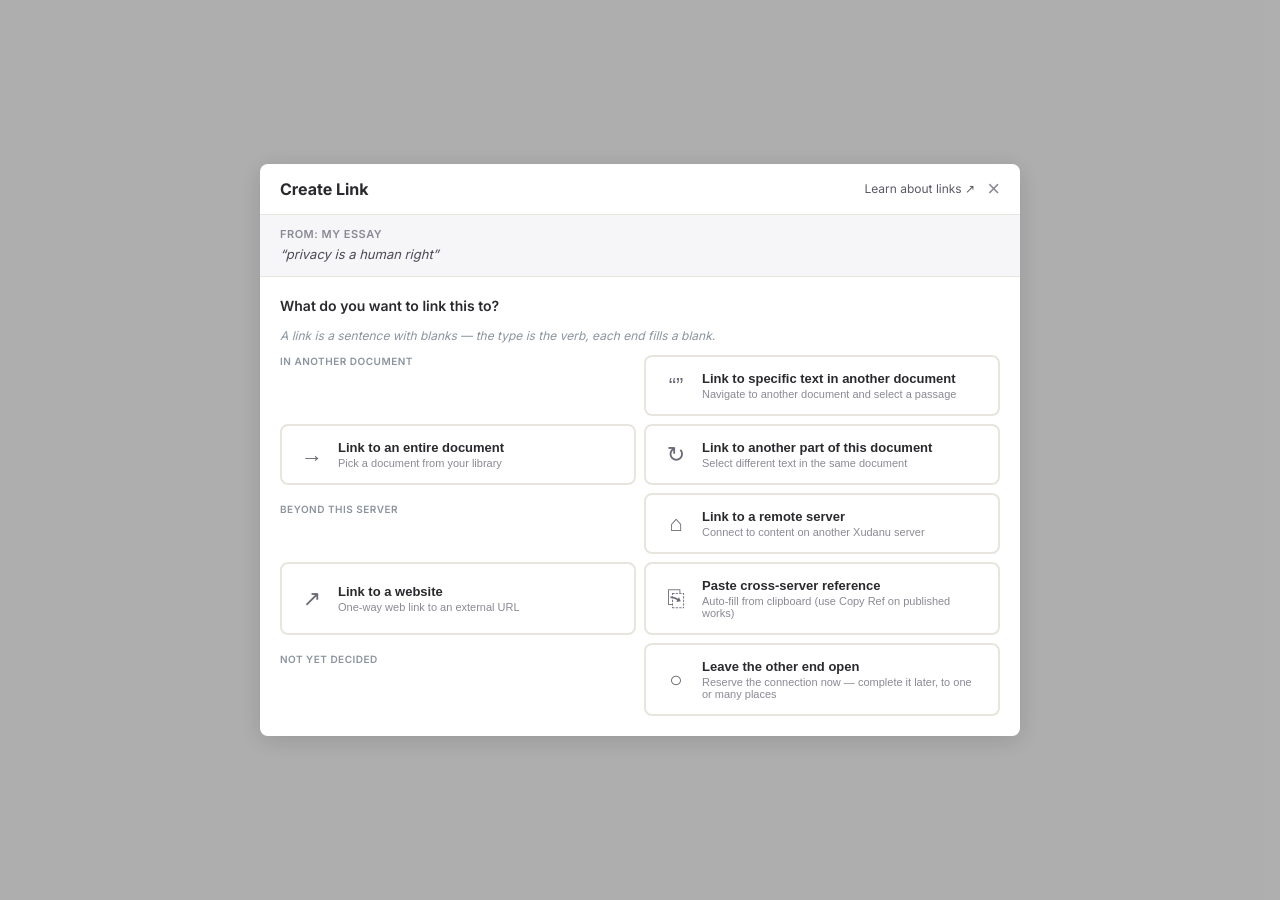
Test: LinkCreator › shows empty state when no other works exist
The image size is (1280, 900).
What coordinates should you click on to do the following:
click the text "Link to an entire document"
I would click on:
 (421, 448)
Its box is [338,440,504,455].
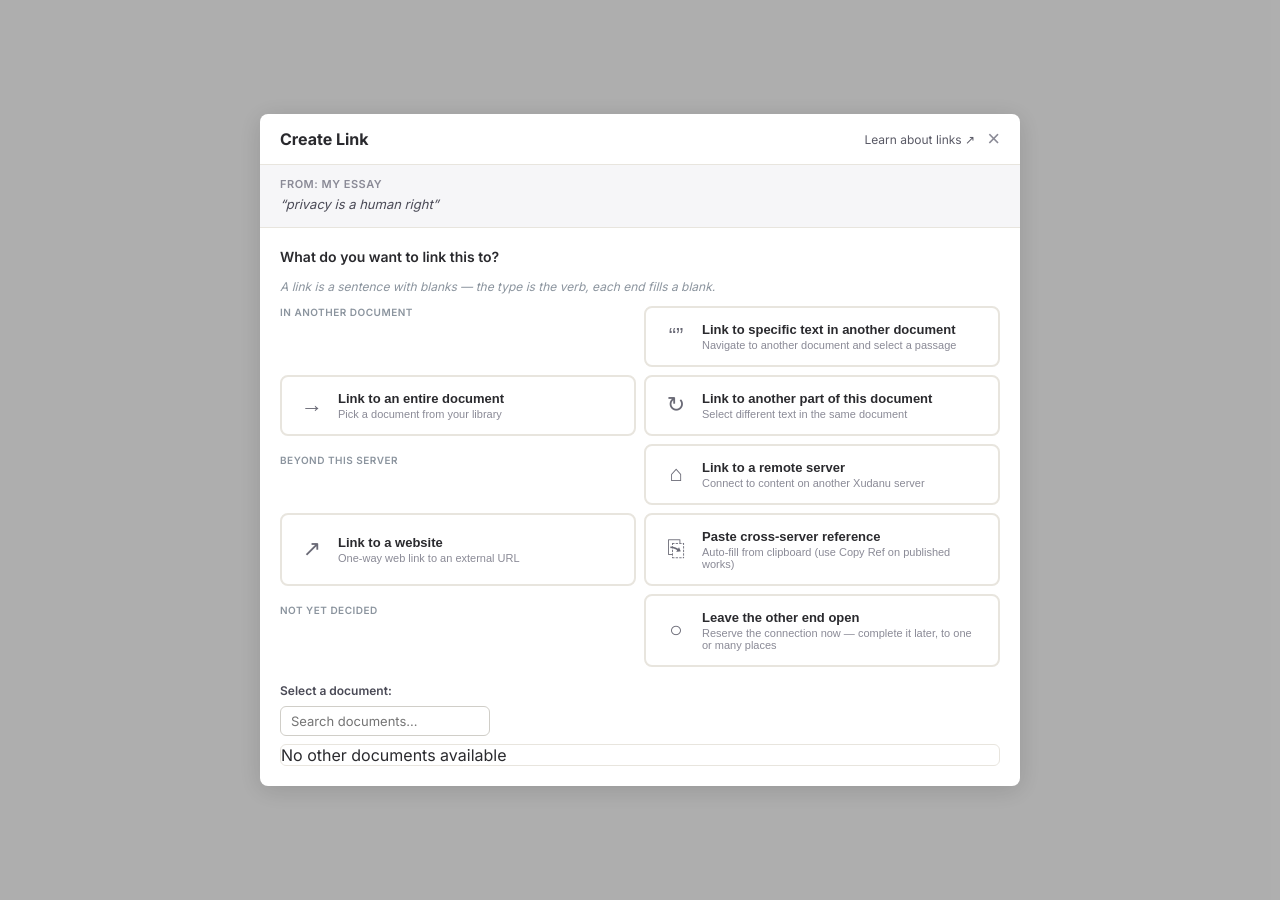
Check: the text "No other documents available" is shown, box [281,745,506,765]
